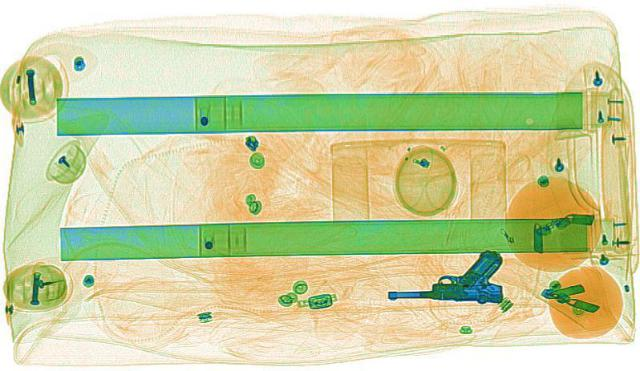Gun: (384, 250, 504, 302)
